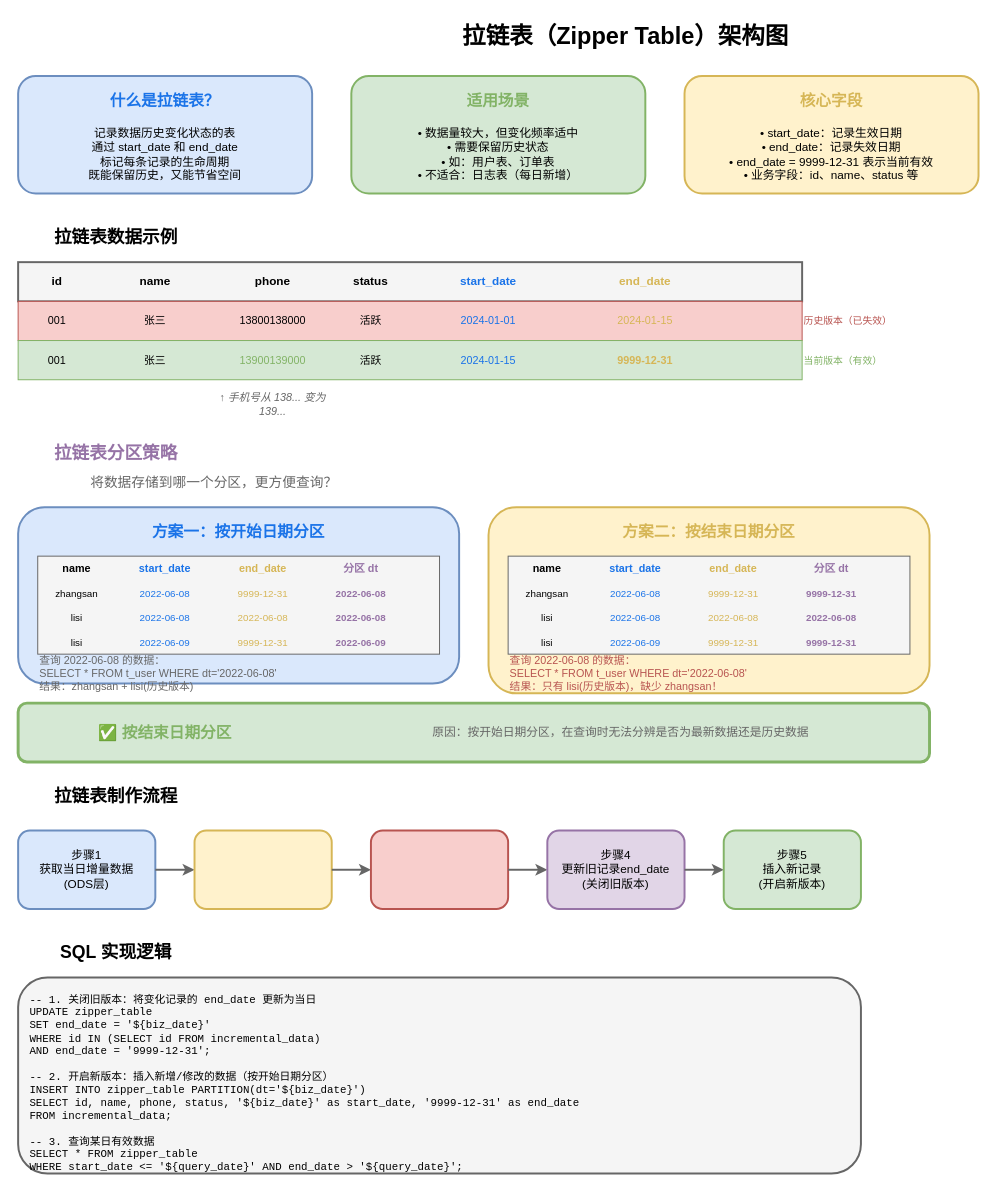
Image size: 997x1192. Some labels were removed from this diagram. The shapes that lost their labels are listed below. From the top down, each one's centre as x and y in pixels, then its label:
At pixel 262 869: "步骤2 获取拉链表 当日有效数据".
At pixel 439 869: "步骤3 比对找出变化数据 (新增/修改)".
